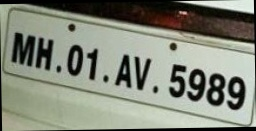character: (10, 31, 35, 66), (34, 35, 54, 70), (114, 52, 133, 88), (186, 68, 206, 101), (133, 54, 151, 90), (168, 64, 187, 97), (206, 72, 225, 105), (226, 76, 245, 109), (66, 44, 83, 75), (85, 48, 98, 79)
